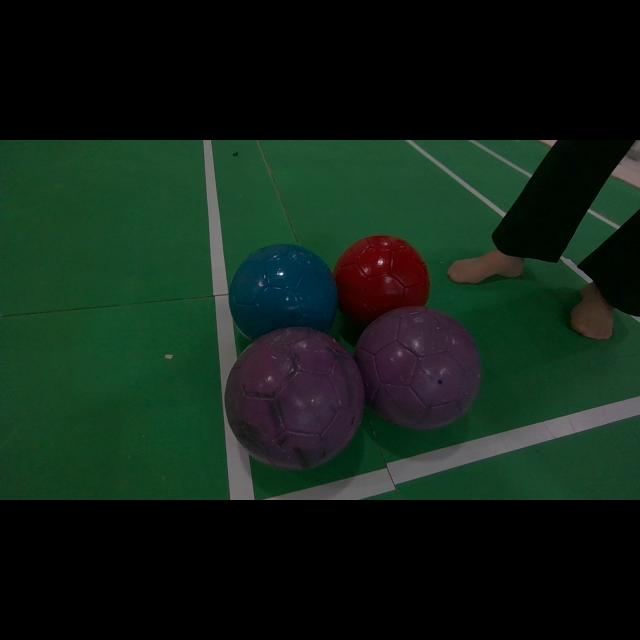B: (230, 244, 338, 339)
P: (225, 328, 364, 470), (355, 306, 481, 429)
R: (334, 235, 430, 326)
